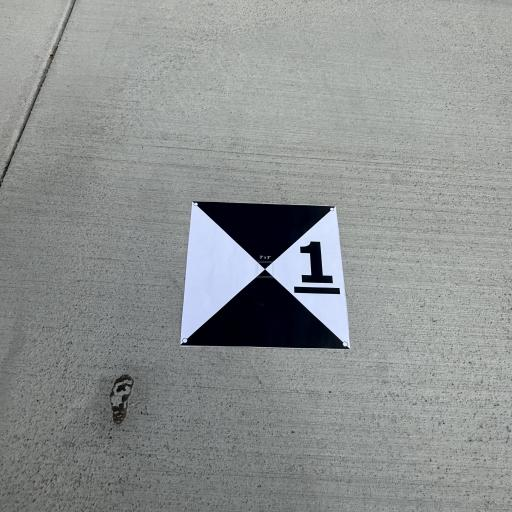target1: (182, 194, 356, 362)
